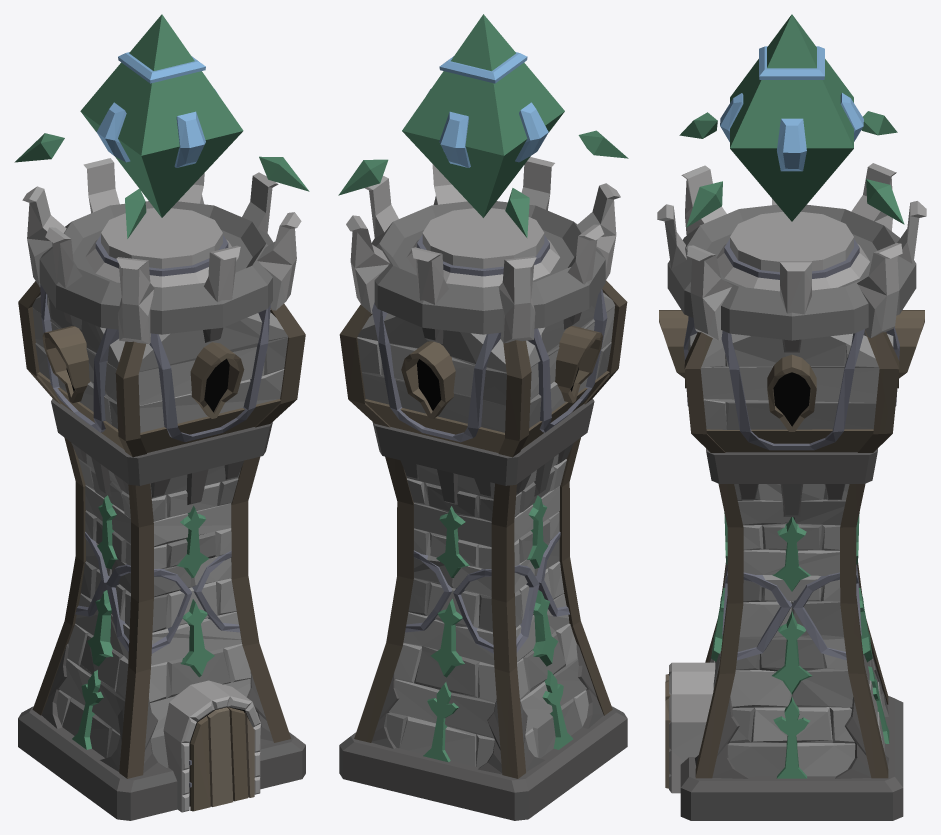
Rendered from _Wizard_tower_LVL_4.fbx.
3 renders of one model, left to right at view 1: azimuth 30°, elevation 25°; view 2: azimuth 150°, elevation 25°; view 3: azimuth 270°, elevation 25°, orthographic.
Visible parts, largest first — view 1: Wizard_Tower_LVL_4; view 2: Wizard_Tower_LVL_4; view 3: Wizard_Tower_LVL_4.
Part boxes in pixels (bbox=[...]): Wizard_Tower_LVL_4: bbox=[14, 14, 309, 820]; Wizard_Tower_LVL_4: bbox=[338, 14, 628, 820]; Wizard_Tower_LVL_4: bbox=[657, 14, 926, 820].
Bounding box in the file's own units: 529 × 1646 × 529.
